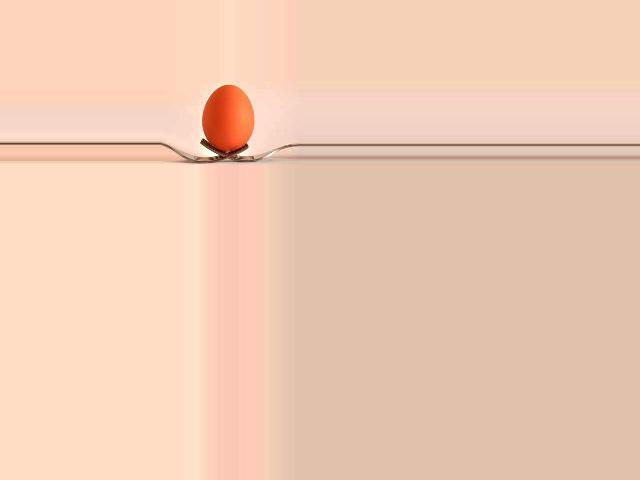egg: (203, 85, 254, 151)
